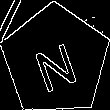N_N: (29, 29, 82, 91)
